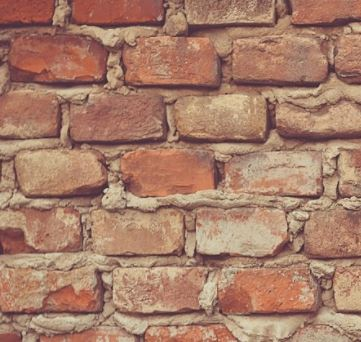brick: (11, 34, 104, 82), (124, 38, 217, 85), (71, 97, 164, 144), (231, 38, 330, 82), (177, 97, 265, 144), (219, 269, 313, 313), (196, 207, 285, 252), (228, 150, 323, 192), (16, 153, 106, 195), (112, 268, 201, 310), (93, 210, 181, 251), (126, 152, 216, 192), (1, 211, 77, 253), (1, 93, 61, 137), (189, 1, 273, 26), (70, 1, 164, 22), (291, 1, 359, 24), (1, 1, 54, 23)
